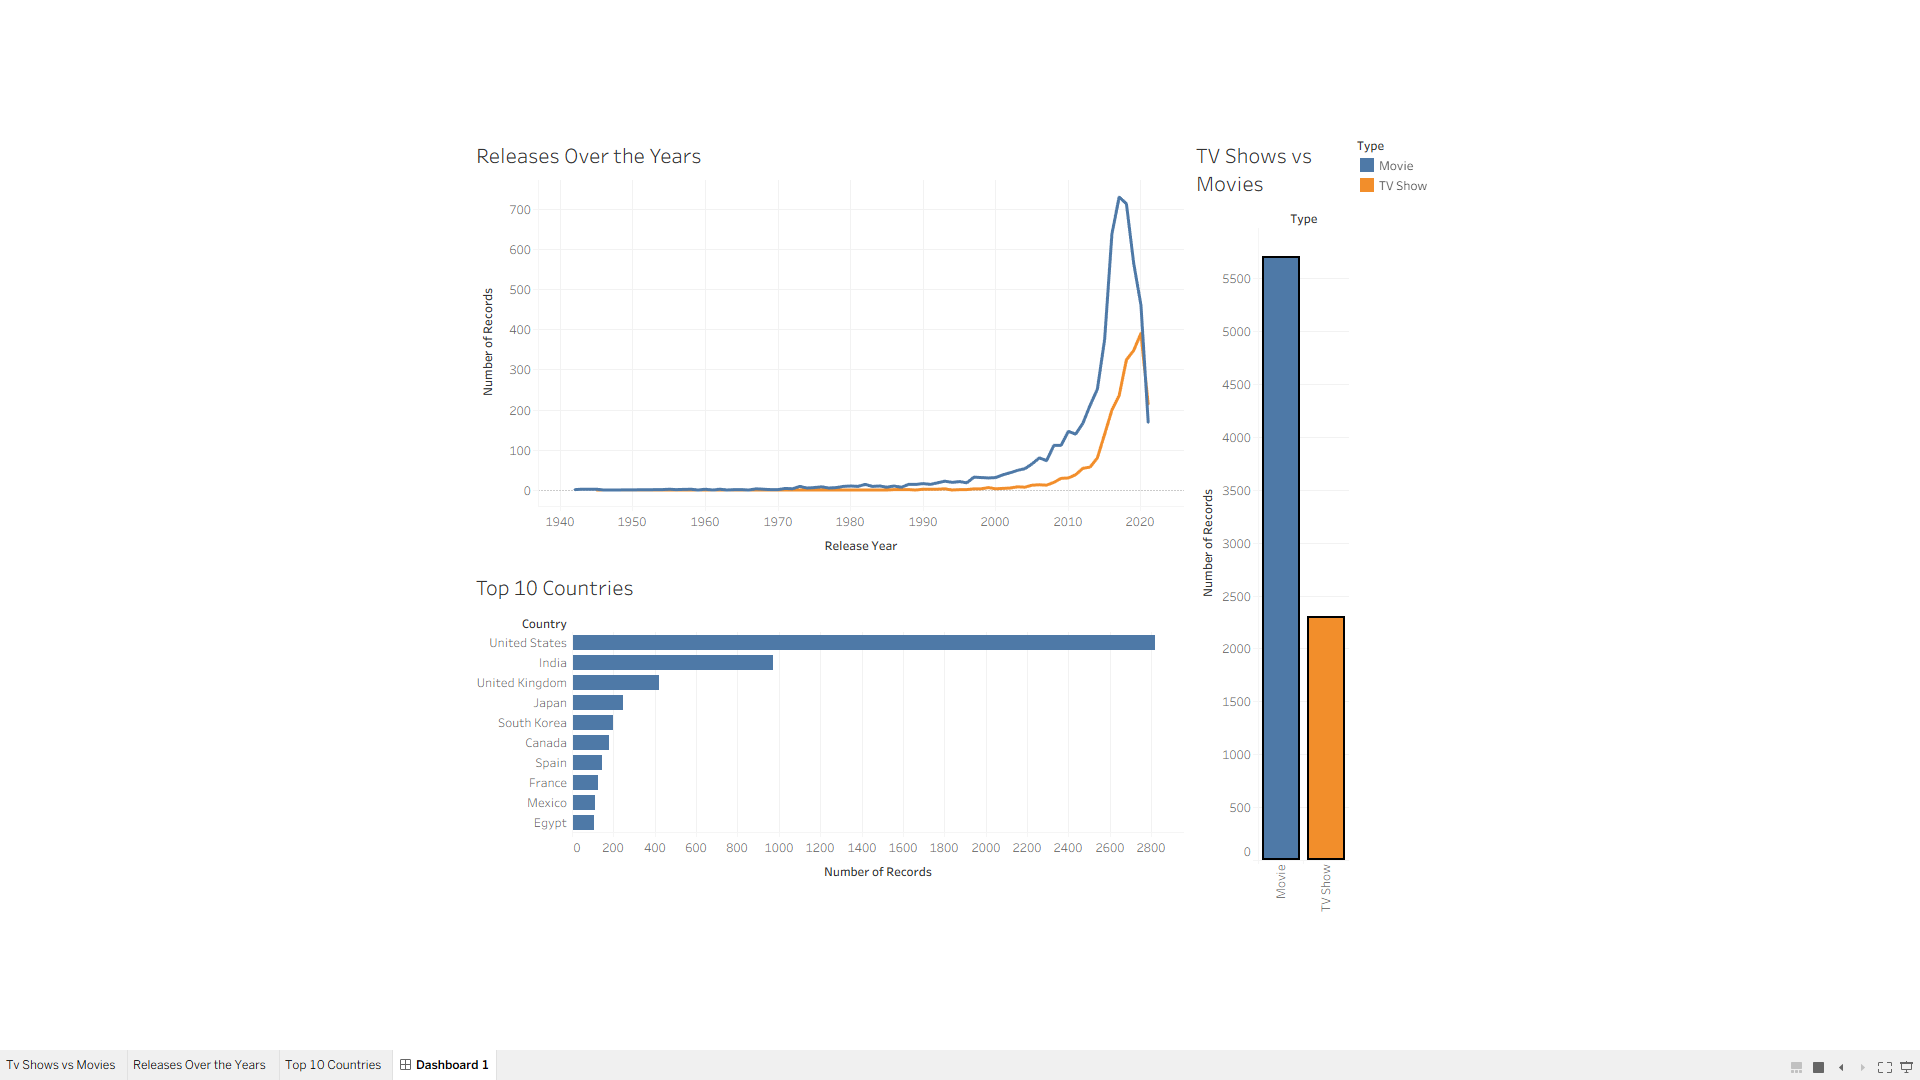

This screenshot's page, from the dashboard's own definition file:
{"tool":"tableau","page":{"name":"Dashboard 1","canvas":[1000,800],"ordinal":0},"visuals":[{"type":"worksheet","title":"Releases Over the Years","mark":"Automatic","rows":["Calculation_183240238840979456"],"cols":["release_year"],"box":[8,8,720,432]},{"type":"worksheet","title":"Tv Shows vs Movies","mark":"Automatic","rows":["Calculation_183240238840979456"],"cols":["type"],"box":[728,8,165,784]},{"type":"legend","title":"Releases Over the Years","param":"[federated.19187d50gl15a61gfyga51eavd2x].[none:type:nk]","box":[893,8,99,66]},{"type":"worksheet","title":"Top 10 Countries","mark":"Automatic","rows":["country"],"cols":["Calculation_183240238840979456"],"box":[8,440,720,352]}]}

Visuals, with their boxes on the page's 1000x800 design canvas (x1, y1, x2, y2). These are canvas units, not pixel positions in the 1920x1080 screenshot, which may show the page scaled, cropped or inside an application window:
"Releases Over the Years" worksheet: Rect(8, 8, 728, 440)
"Tv Shows vs Movies" worksheet: Rect(728, 8, 893, 792)
"Releases Over the Years" legend: Rect(893, 8, 992, 74)
"Top 10 Countries" worksheet: Rect(8, 440, 728, 792)
